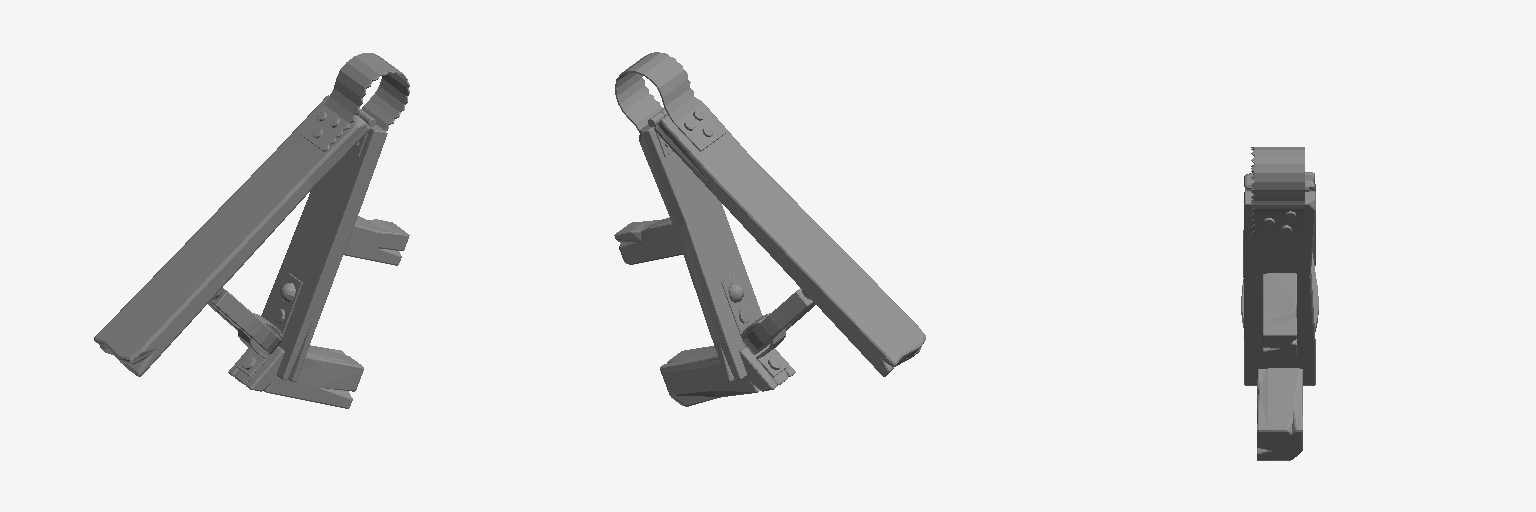
Rendered from SPLANKE.obj.
3 renders of one model, left to right at view 1: azimuth 30°, elevation 25°; view 2: azimuth 150°, elevation 25°; view 3: azimuth 270°, elevation 25°, orthographic.
Parts seen in each view (by area): view 1: model_0; view 2: model_0; view 3: model_0.
Part boxes in pixels (left/top/right/bottom): model_0: left=94, top=53, right=409, bottom=408; model_0: left=614, top=52, right=925, bottom=406; model_0: left=1241, top=147, right=1318, bottom=460.
Size of the model in its own units: 17.42 by 18.86 by 4.03.